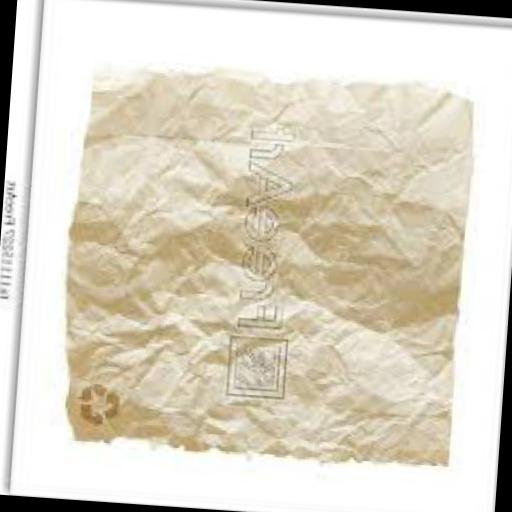paper: (58, 62, 484, 473)
